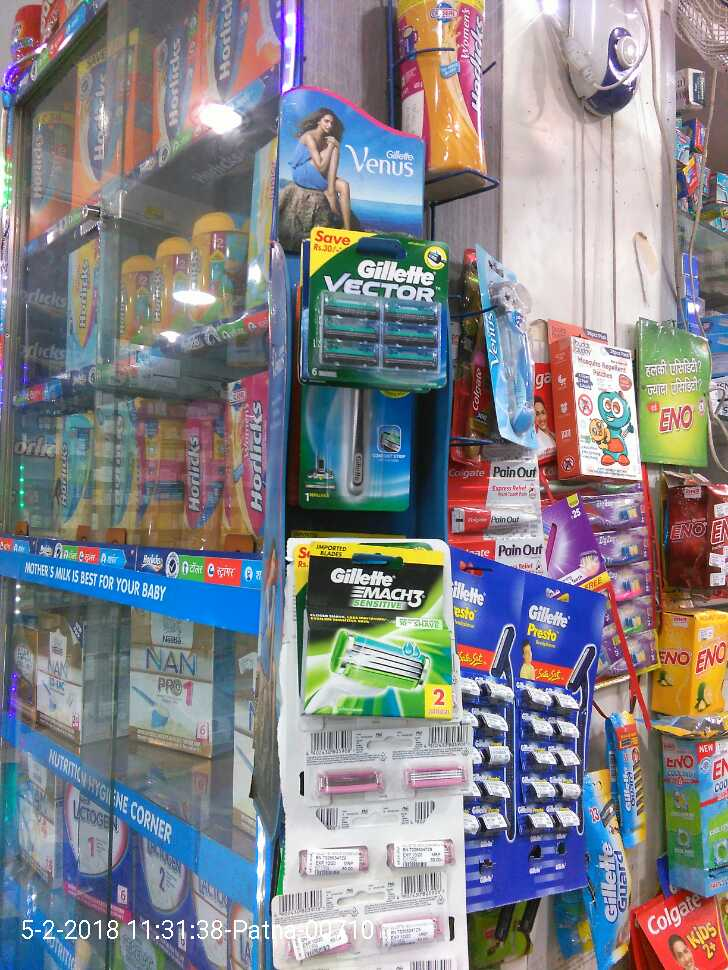gillette: (308, 537, 460, 730), (291, 226, 454, 389), (580, 768, 627, 955), (612, 713, 662, 830)
